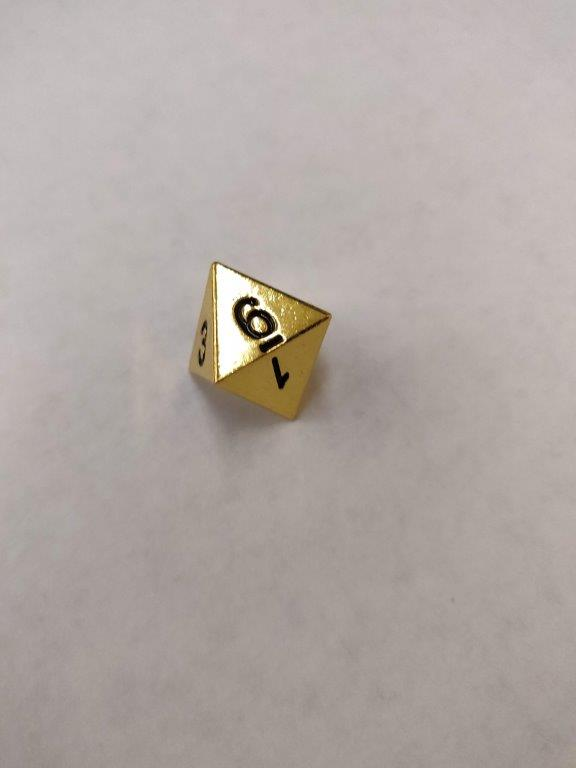d8-6: (180, 262, 334, 422)
